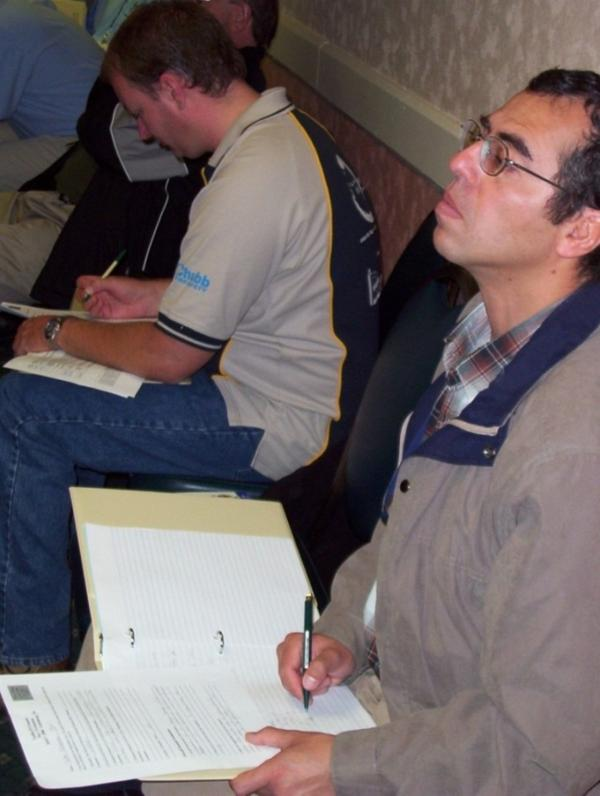person: (1, 7, 347, 674)
